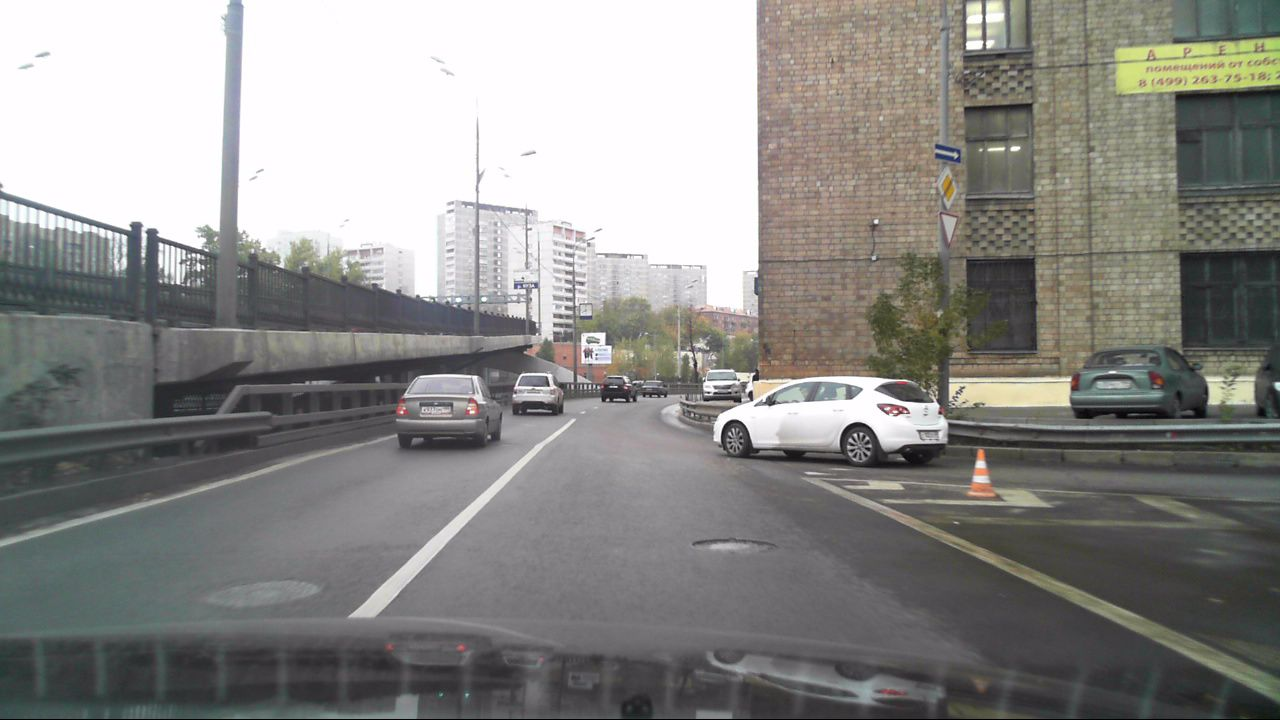main road: (935, 168, 963, 209)
